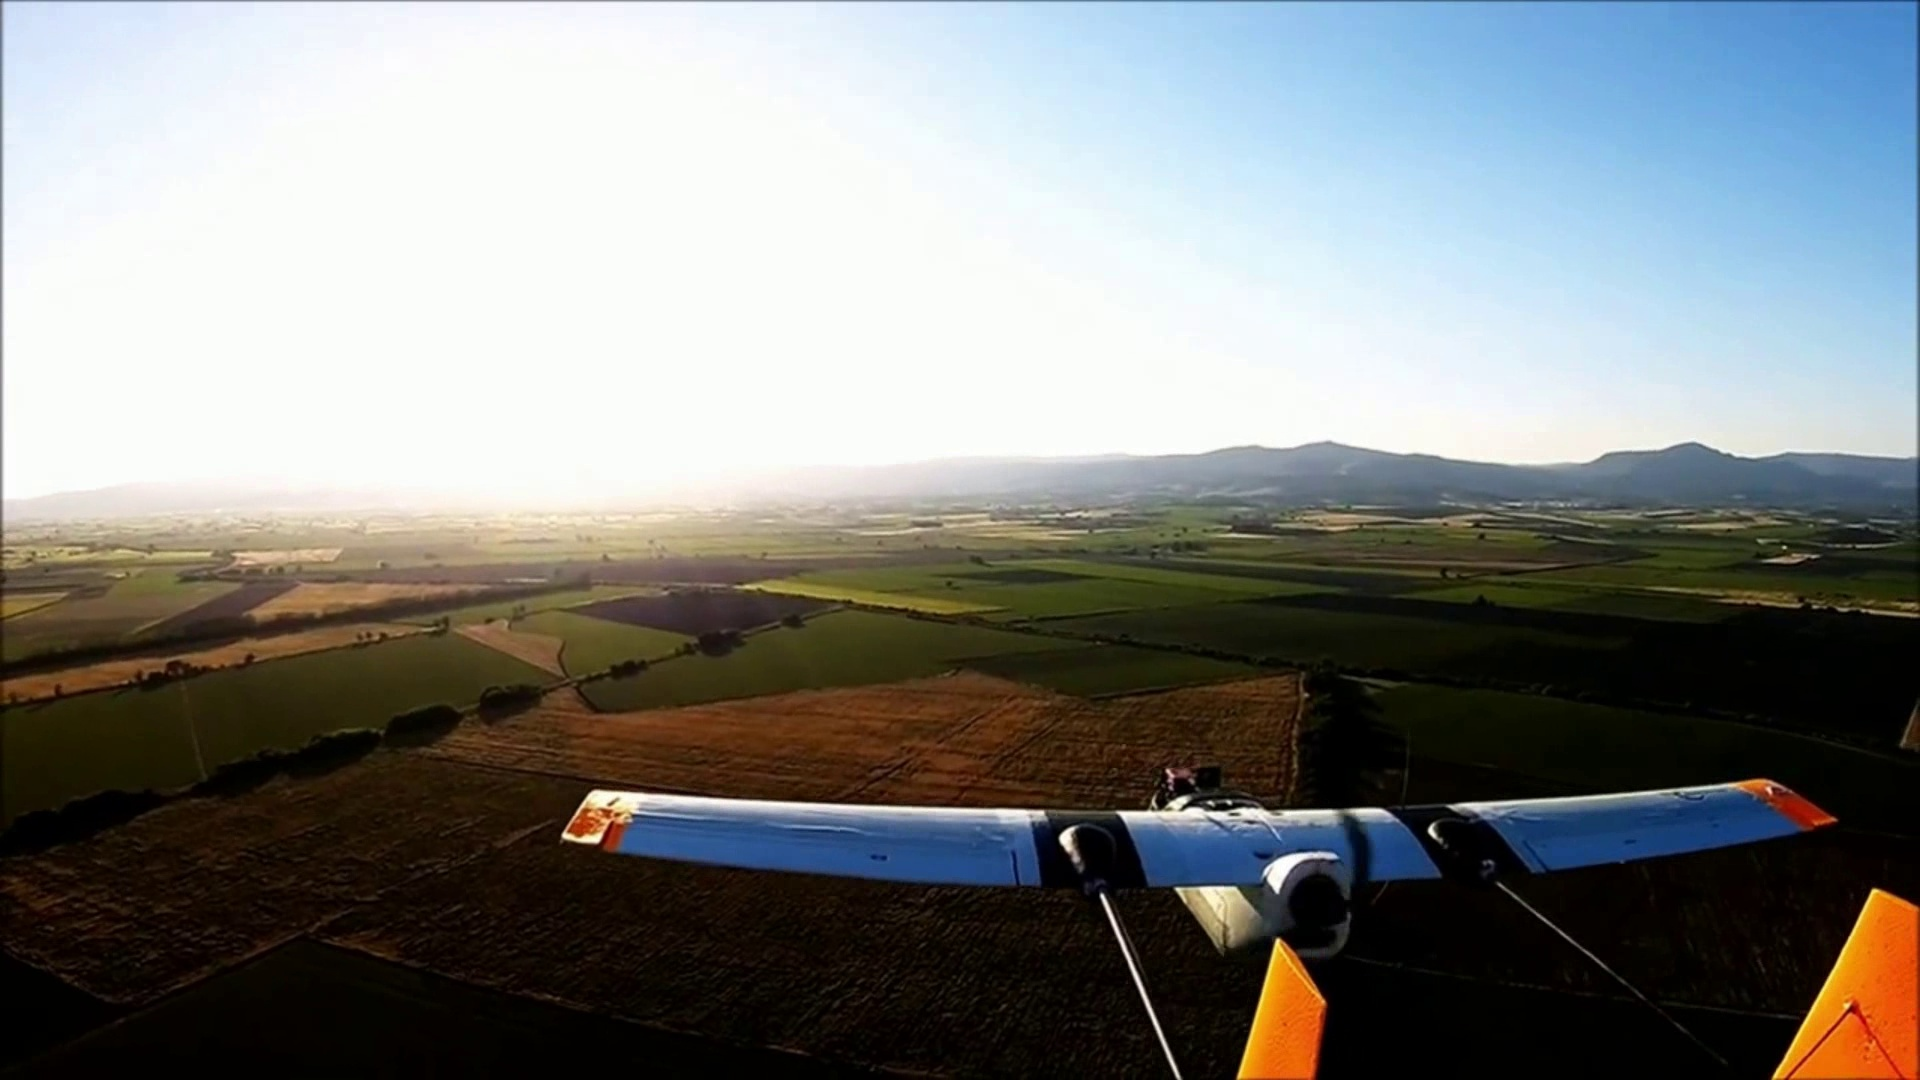airplane: (557, 764, 1855, 1002)
